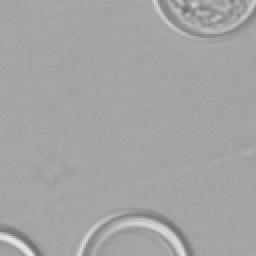picoshell: (76, 208, 190, 254), (152, 0, 254, 40), (0, 224, 43, 256)
